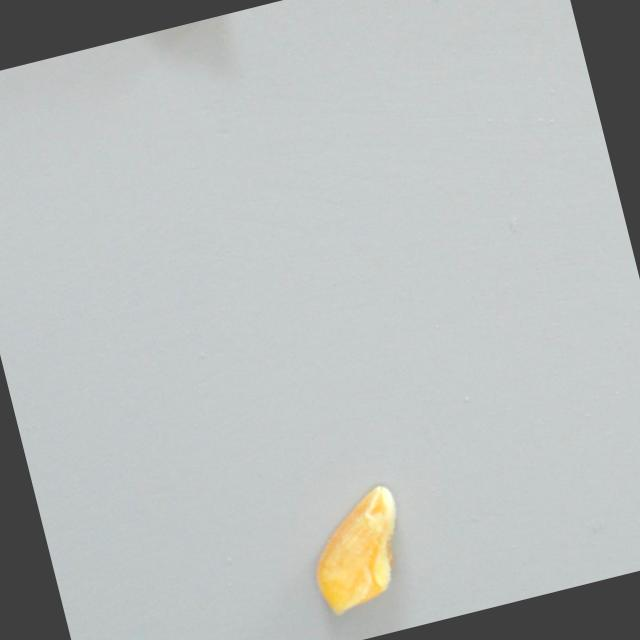dañado: (292, 477, 427, 623)
